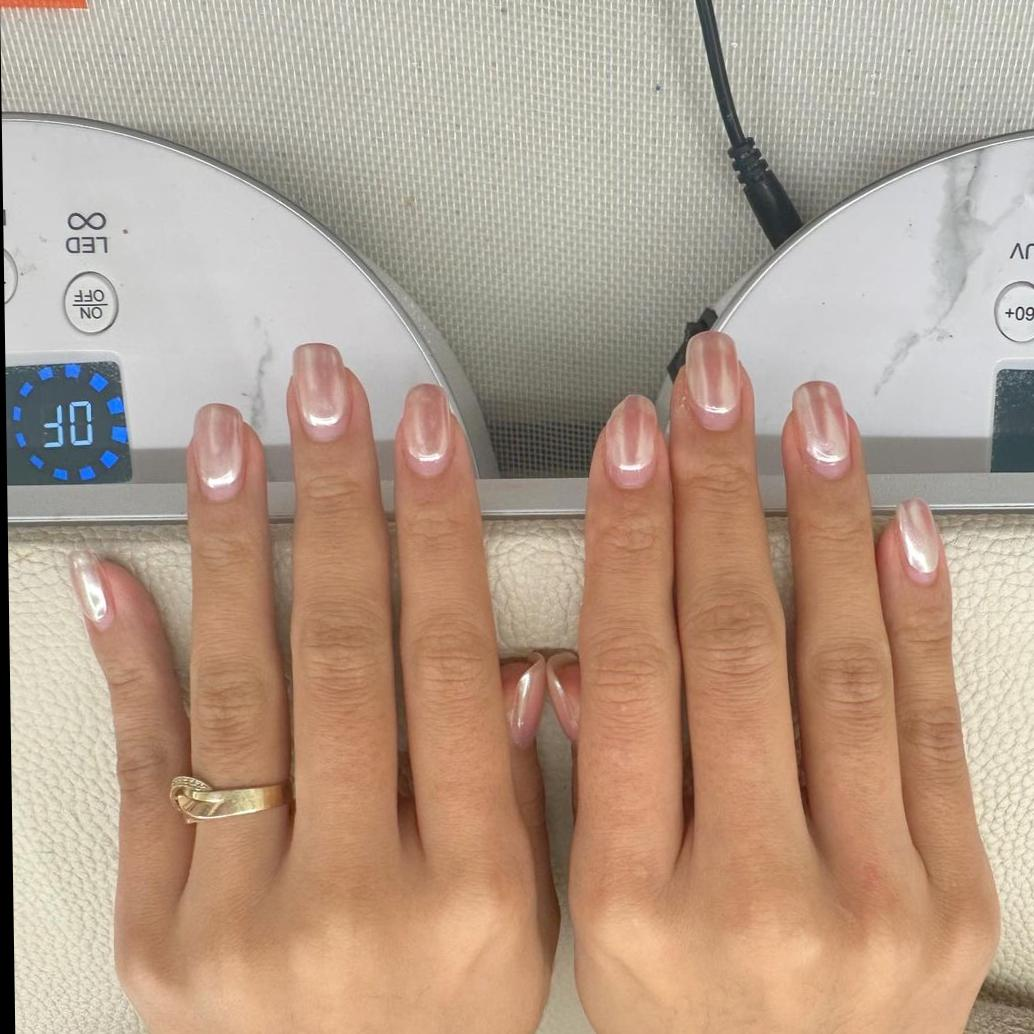nail: (794, 381, 853, 475), (605, 394, 661, 491), (294, 343, 350, 437), (194, 404, 247, 501), (686, 330, 743, 419), (403, 385, 454, 476), (508, 655, 549, 749), (896, 498, 943, 578), (70, 551, 114, 630), (547, 650, 583, 743)
